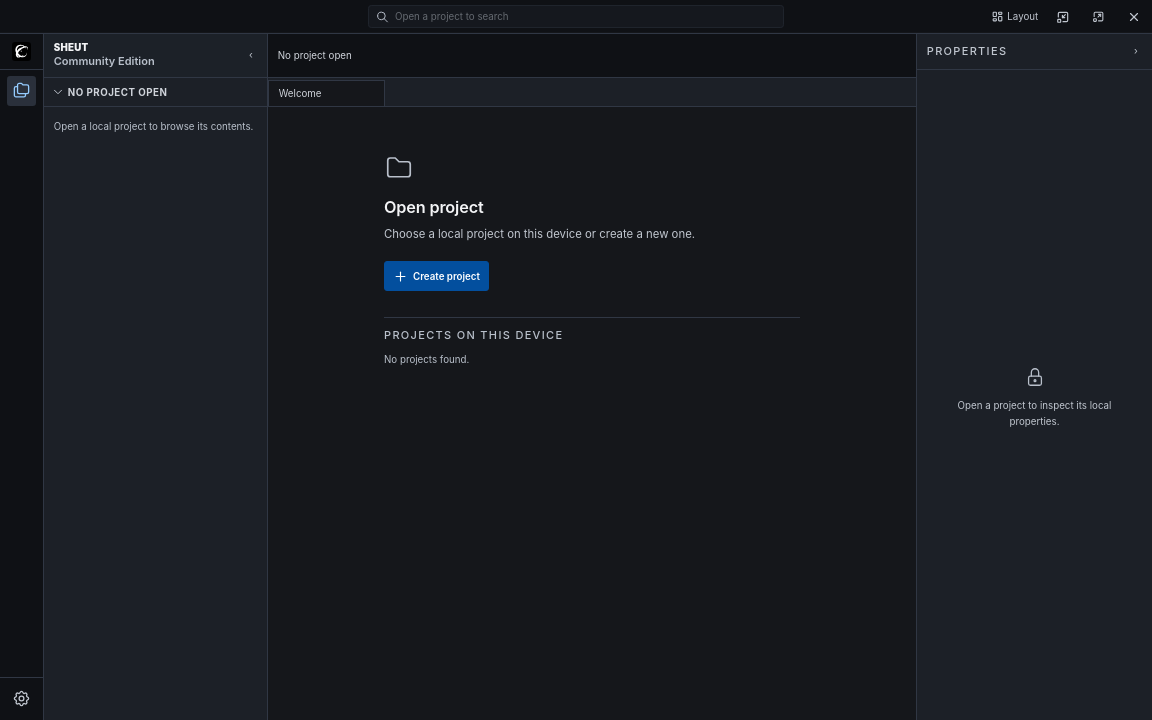
Scenario: App › shows failed investigation creation in a redacted toast
Click the button "Create project".
click(437, 276)  # box [384, 261, 489, 291]
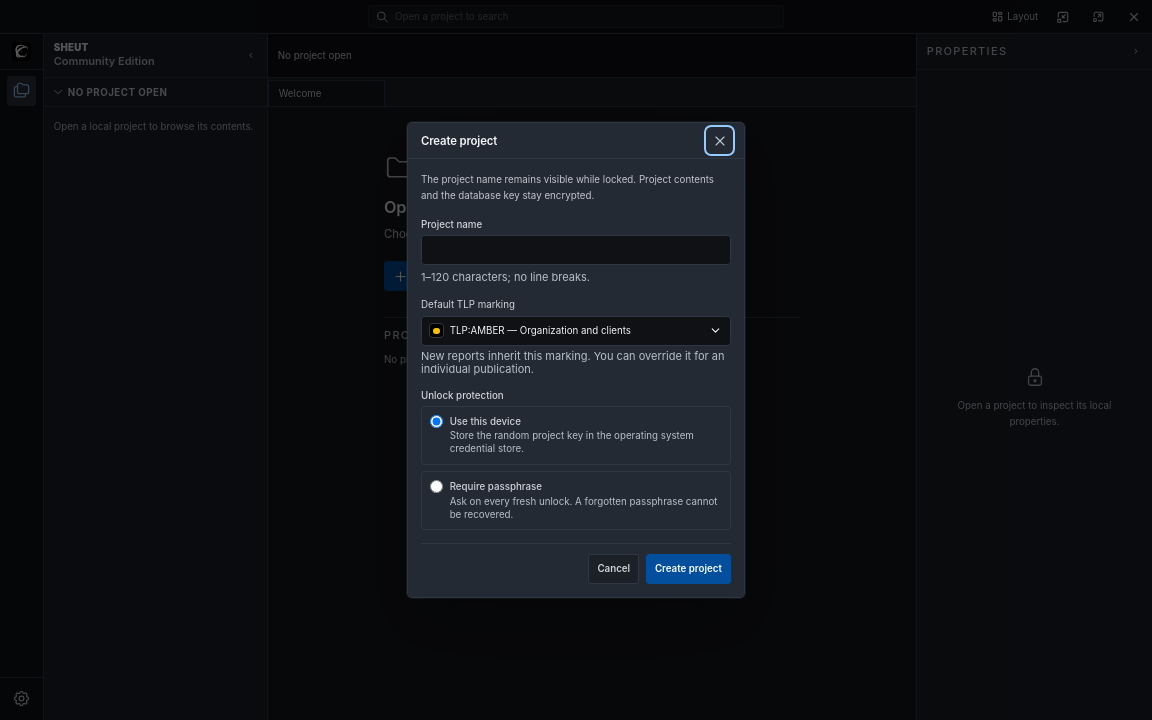
Type "Operation Shadow" into the field labelled "Project name".
click(576, 250); type("Operation Shadow")  # box [421, 235, 731, 265]
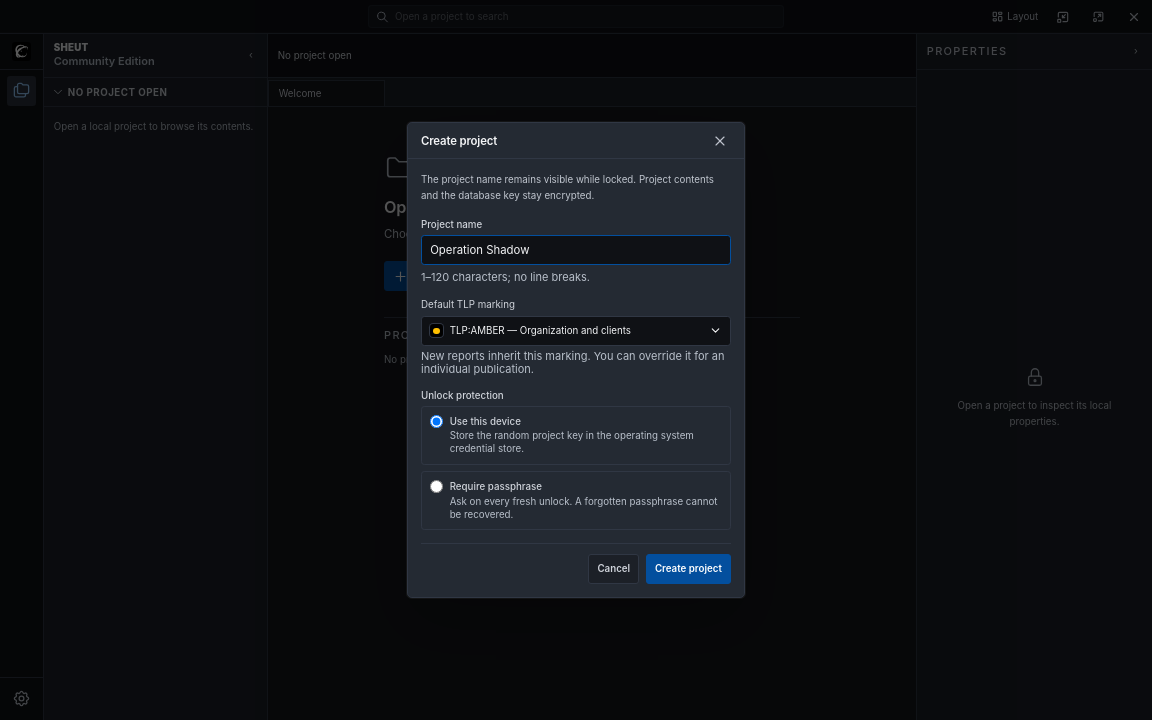
Click the button "Create project".
click(688, 569)  # box [646, 554, 731, 584]
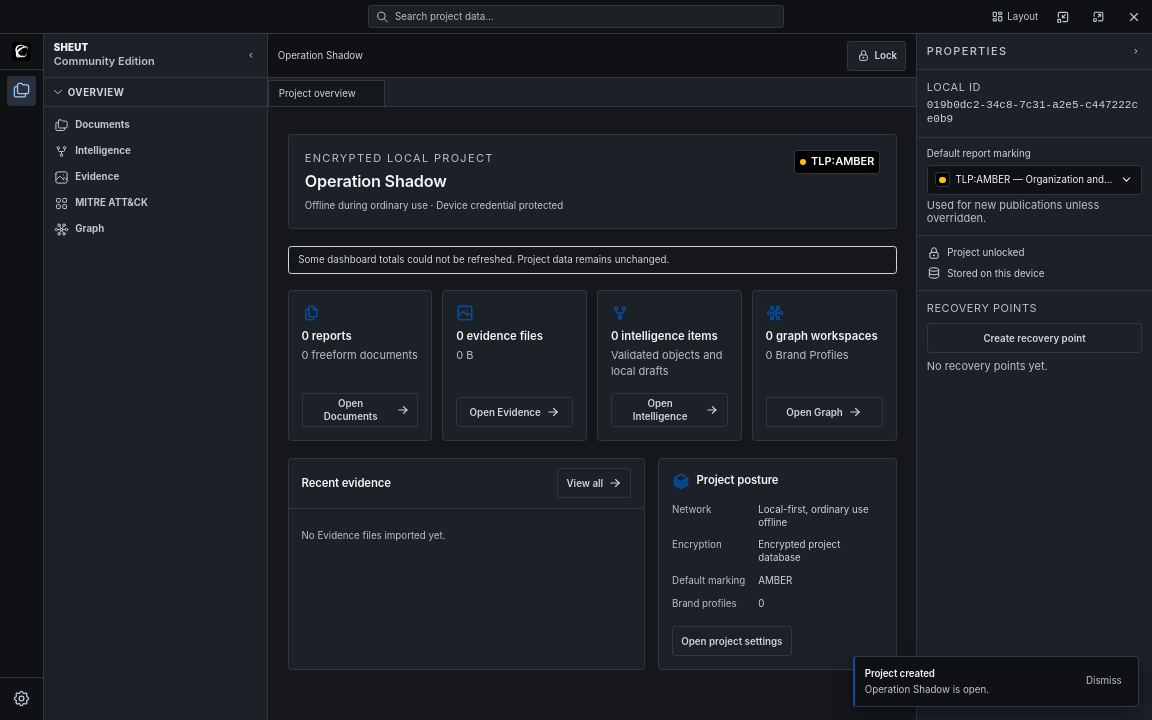
Click the button "Documents".
click(156, 125)  # box [44, 112, 267, 138]
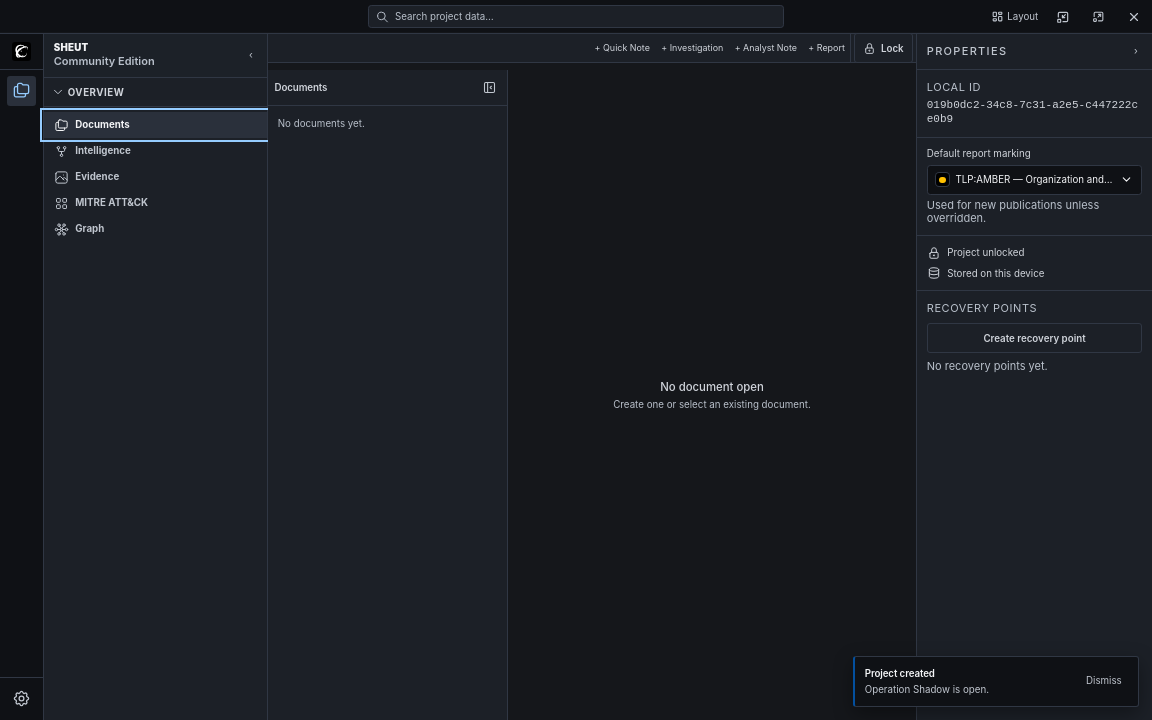
Click the button with aria-label "New Investigation".
click(692, 48)  # box [656, 37, 728, 60]
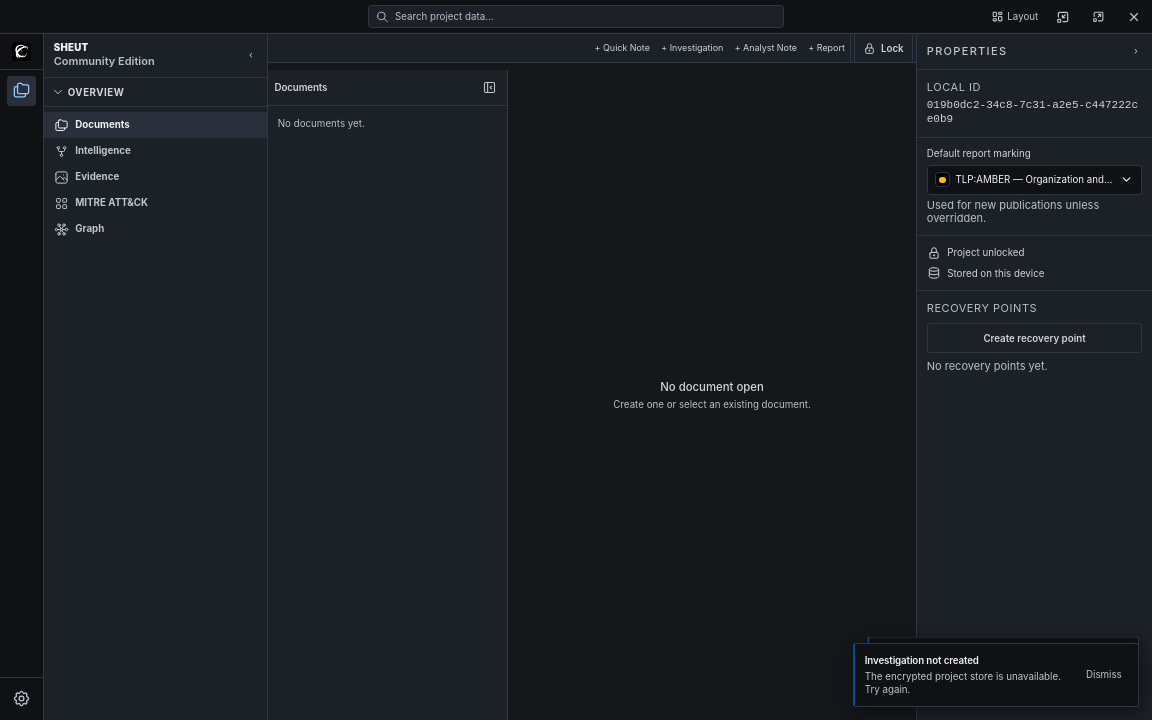
Expected: the dialog "Investigation not created" shows "The encrypted project store is unavailable", [865, 671, 1061, 695]
